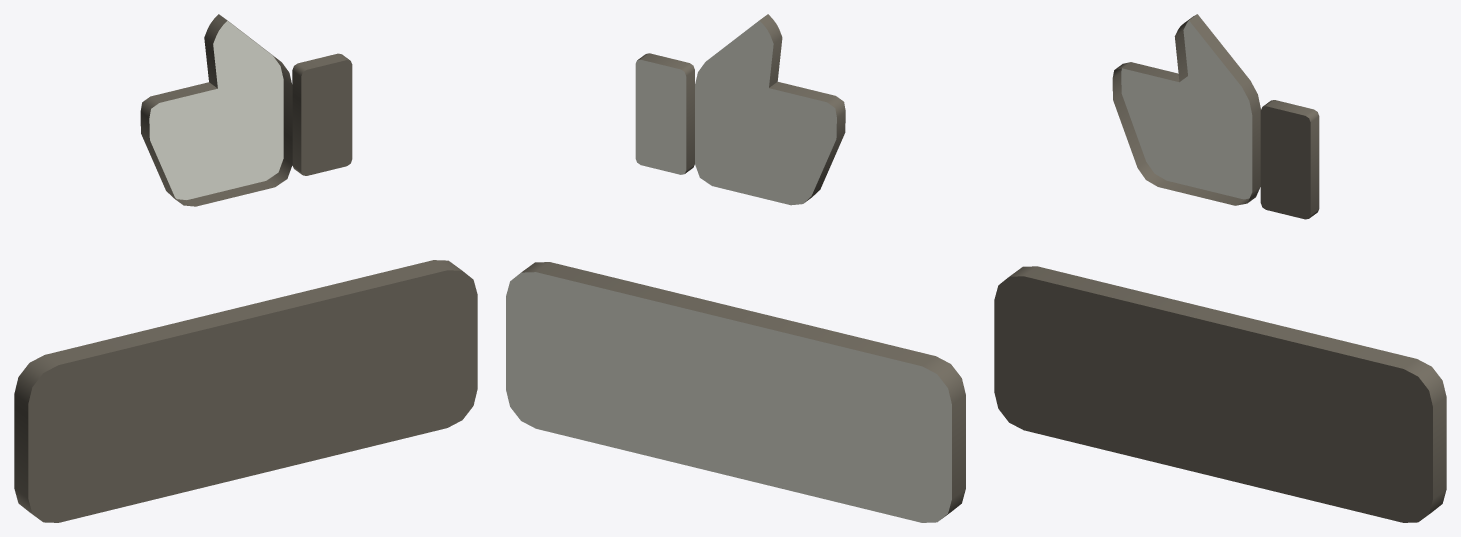
The model's file is like_counter_bg.glb.
3 views of the same model, side by side, from view 1: azimuth 30°, elevation 25°; view 2: azimuth 150°, elevation 25°; view 3: azimuth 330°, elevation 25° (orthographic). The views are drawn at different scales.
Visible parts, largest first — view 1: like.001, like; view 2: like.001, like; view 3: like.001, like.
Boxes of the visible parts, bbox=[...] form: like.001: bbox=[14, 260, 477, 522]; like: bbox=[140, 14, 352, 206]; like.001: bbox=[506, 262, 965, 522]; like: bbox=[635, 14, 845, 205]; like.001: bbox=[994, 266, 1446, 522]; like: bbox=[1112, 14, 1319, 219].
Bounding box in the file's own units: 1.02 × 1 × 0.055.
1 material, 1 textured.
